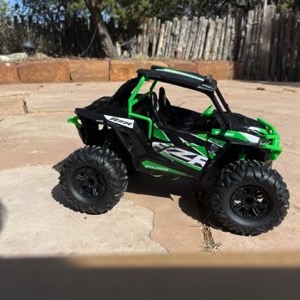polaris: (61, 65, 290, 236)
